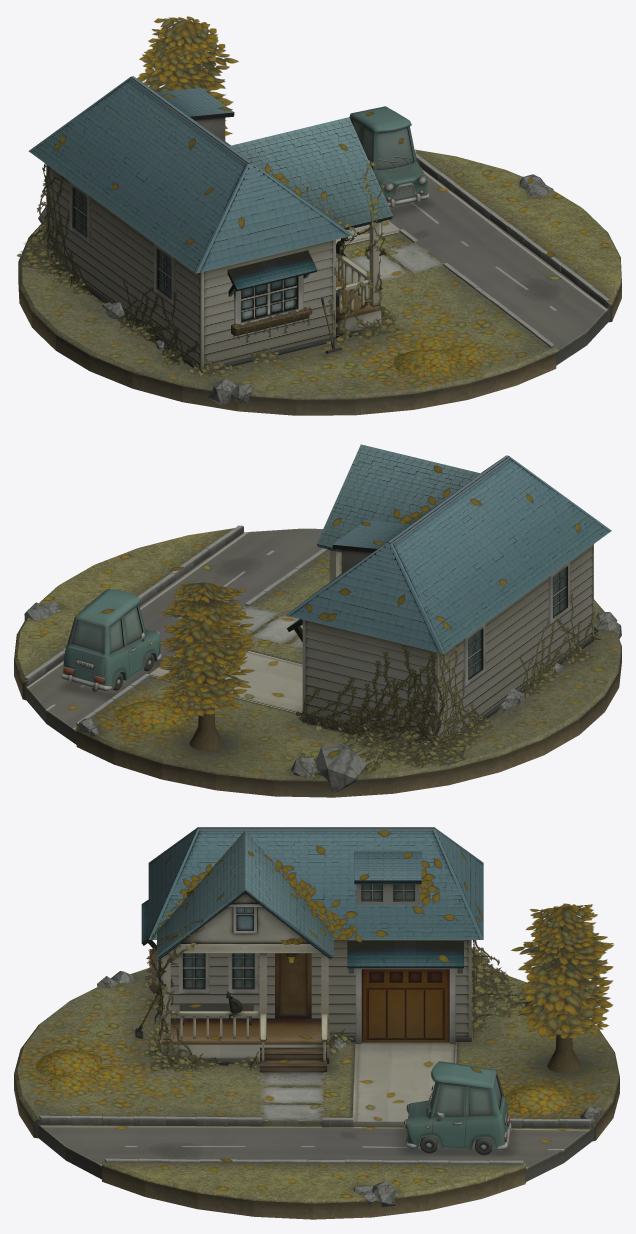
Rendered from autumn.glb.
3 views of the same model, one above another, from view 1: azimuth 30°, elevation 25°; view 2: azimuth 150°, elevation 25°; view 3: azimuth 270°, elevation 25° (orthographic).
Parts seen in each view (by area): view 1: polySurface637, House_base, polySurface197, polySurface355, initialShadingGrouppolySurface116_polySurface3, House_window_01, polySurface226, polySurface243, House_smallroof_02, House_veranda, House_windows_06, House_windows_05 (+4 smaller); view 2: polySurface637, House_base, polySurface355, polySurface197, initialShadingGrouppolySurface116_polySurface3, polySurface276, polySurface250, House_smallroof_02, House_windows_05, House_windows_06, polySurface470, polySurface480 (+6 smaller); view 3: polySurface637, House_base, polySurface355, polySurface197, Garage_door, initialShadingGrouppolySurface116_polySurface3, House_veranda, polySurface179, House_roof_part_02, House_door, House_smallroof_02, House_stairs (+13 smaller).
Part boxes in pixels (x1,y1,x2,y2): polySurface637: (18,149,621,415); House_base: (28,76,353,372); polySurface197: (229,117,392,229); polySurface355: (137,16,238,135); initialShadingGrouppolySurface116_polySurface3: (349,106,429,207); House_window_01: (234,275,303,324); polySurface226: (227,250,317,296); polySurface243: (393,349,461,376); House_smallroof_02: (156,88,234,120); House_veranda: (336,273,381,338); House_windows_06: (69,181,91,244); House_windows_05: (154,243,175,305); polySurface637: (14,526,621,797); House_base: (285,455,611,747); polySurface355: (154,582,254,751); polySurface197: (316,444,480,552); initialShadingGrouppolySurface116_polySurface3: (61,589,161,691); polySurface276: (315,744,367,792); polySurface250: (115,701,186,731); House_smallroof_02: (332,520,410,552); House_windows_05: (548,561,570,624); House_windows_06: (463,623,485,686); polySurface470: (418,730,466,765); polySurface480: (375,730,424,763); polySurface637: (14,968,619,1219); House_base: (148,827,483,1041); polySurface355: (511,903,613,1073); polySurface197: (157,830,333,959); Garage_door: (355,968,455,1043); initialShadingGrouppolySurface116_polySurface3: (404,1061,511,1155); House_veranda: (161,1018,329,1063); polySurface179: (347,941,463,973); House_roof_part_02: (180,893,309,943); House_door: (275,953,311,1018); House_smallroof_02: (354,851,421,884); House_stairs: (260,1047,326,1072).
Bounding box in the file's own units: 50.27 × 18.7 × 50.43.
6 materials, 5 textured.
